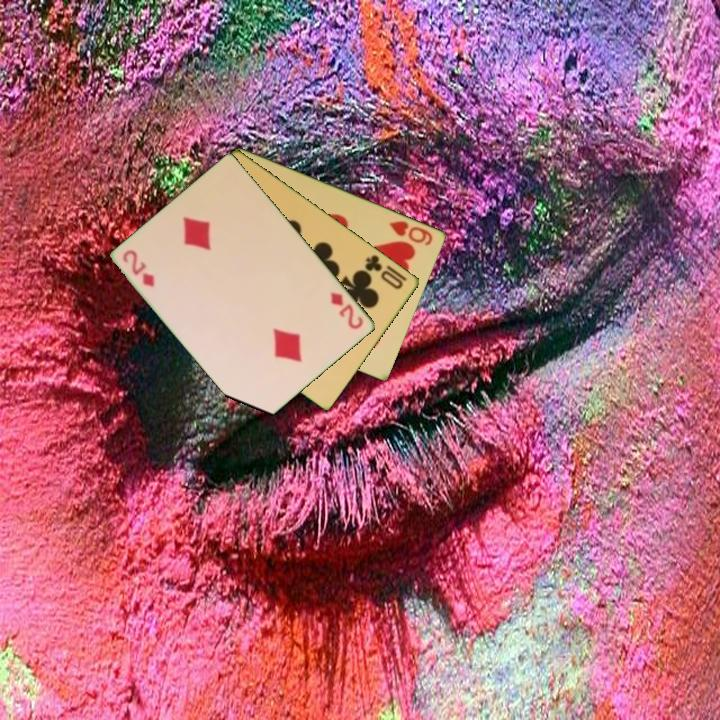10c: (361, 251, 406, 292)
2d: (119, 246, 158, 290), (327, 289, 366, 332)
6h: (386, 217, 436, 248)
